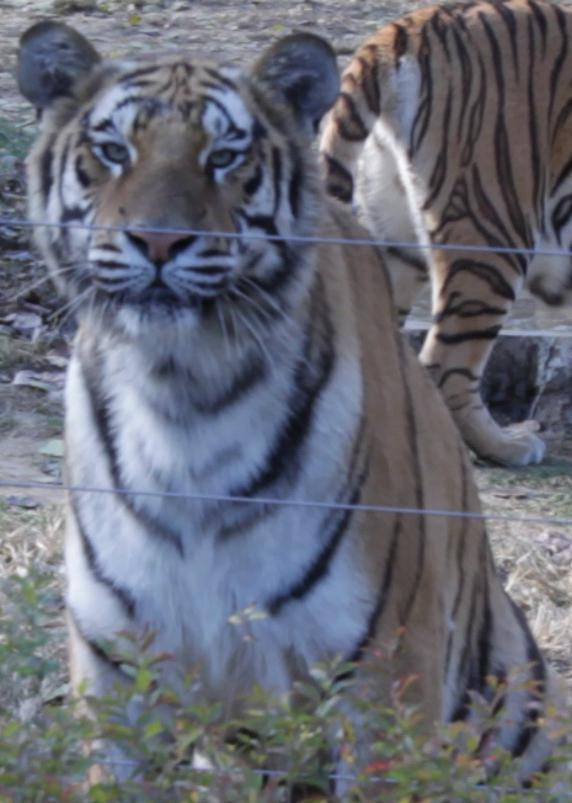tiger: (18, 22, 548, 770)
